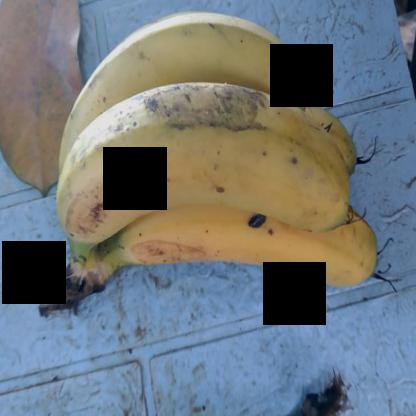ripe: (57, 78, 358, 247)
